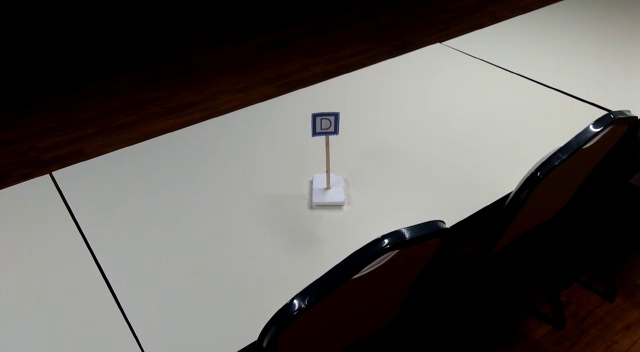durak: (309, 110, 340, 137)
